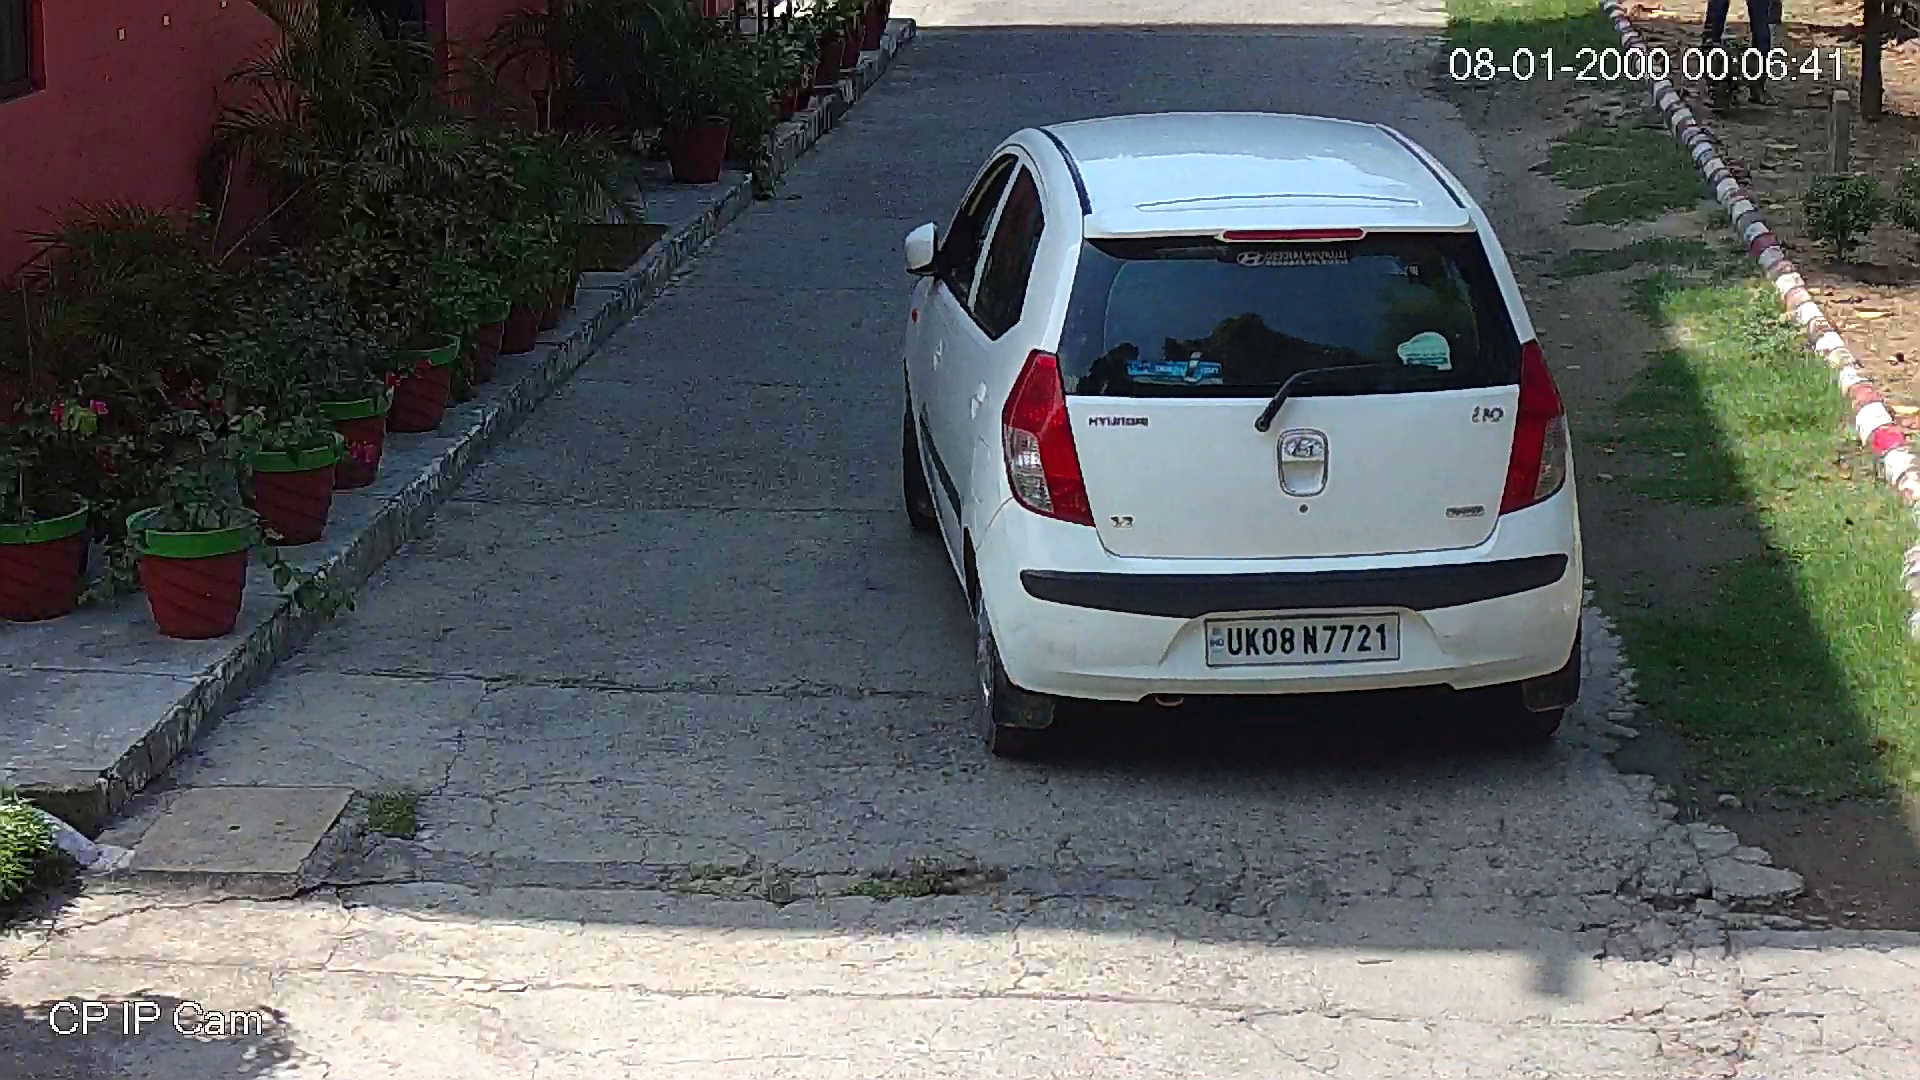plate: (1208, 615, 1401, 663)
